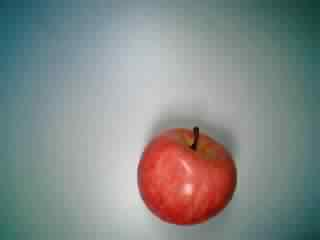apple: (135, 123, 238, 227)
